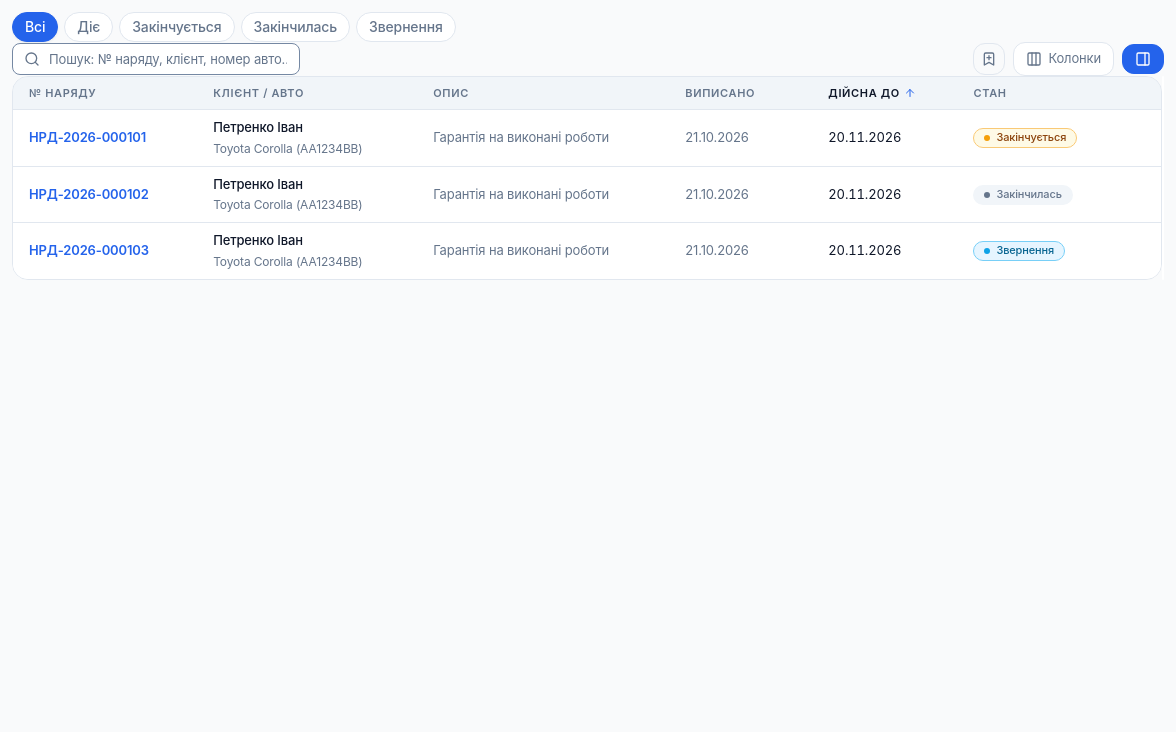
Вкладка «Гарантії» › роль без права на звернення (бухгалтер) — кнопки «Звернення» немає ні в рядку, ні в панелі
This screenshot has width=1176, height=732.
Expected: the link "НРД-2026-000101" is shown, 29,129 -> 146,145
What coordinates should you click on to do the following:
click the text "НРД-2026-000101"
I would click on:
 (587, 138)
Its box is 13,110 -> 1161,166.
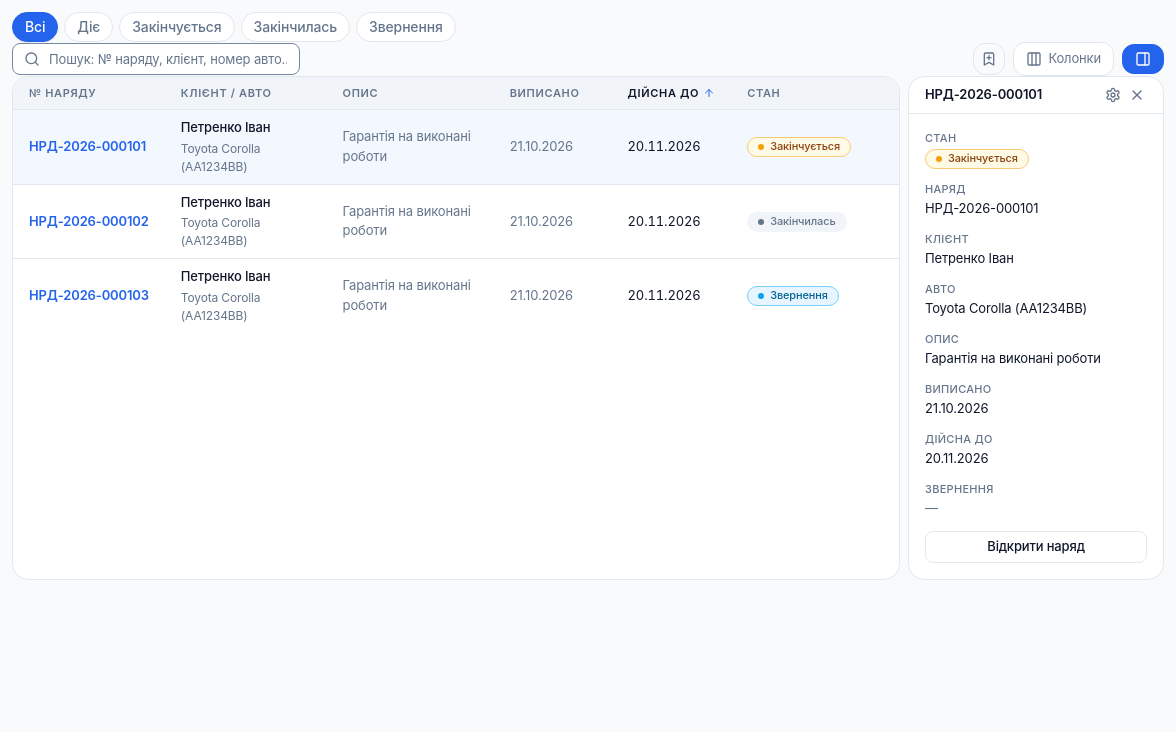
Result: the heading "НРД-2026-000101" is shown at 925,86 -> 1042,103
